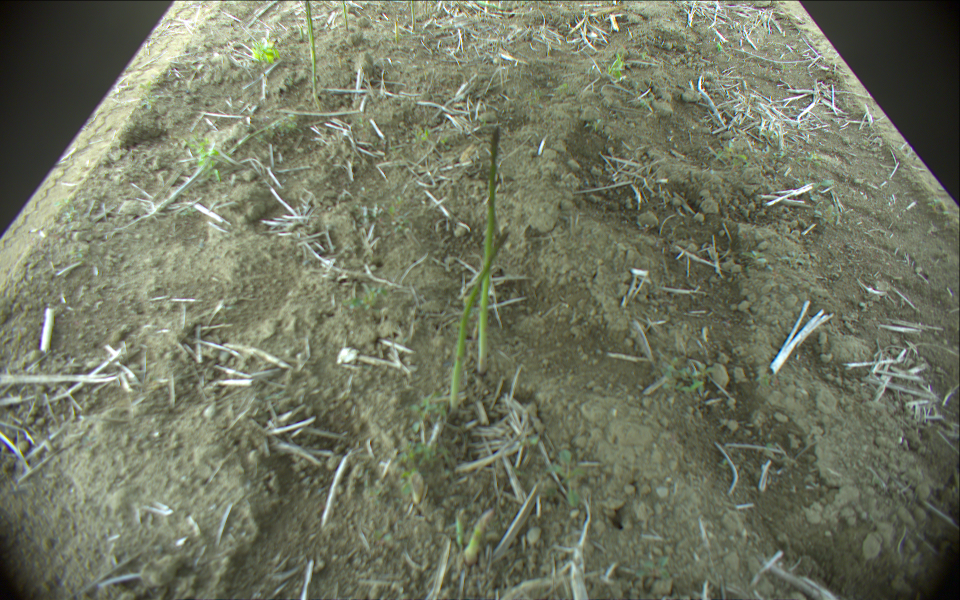aspa: (444, 232, 512, 411), (476, 123, 502, 373), (465, 509, 494, 564), (304, 1, 318, 98), (341, 1, 350, 31), (408, 1, 417, 29), (394, 18, 399, 41)
